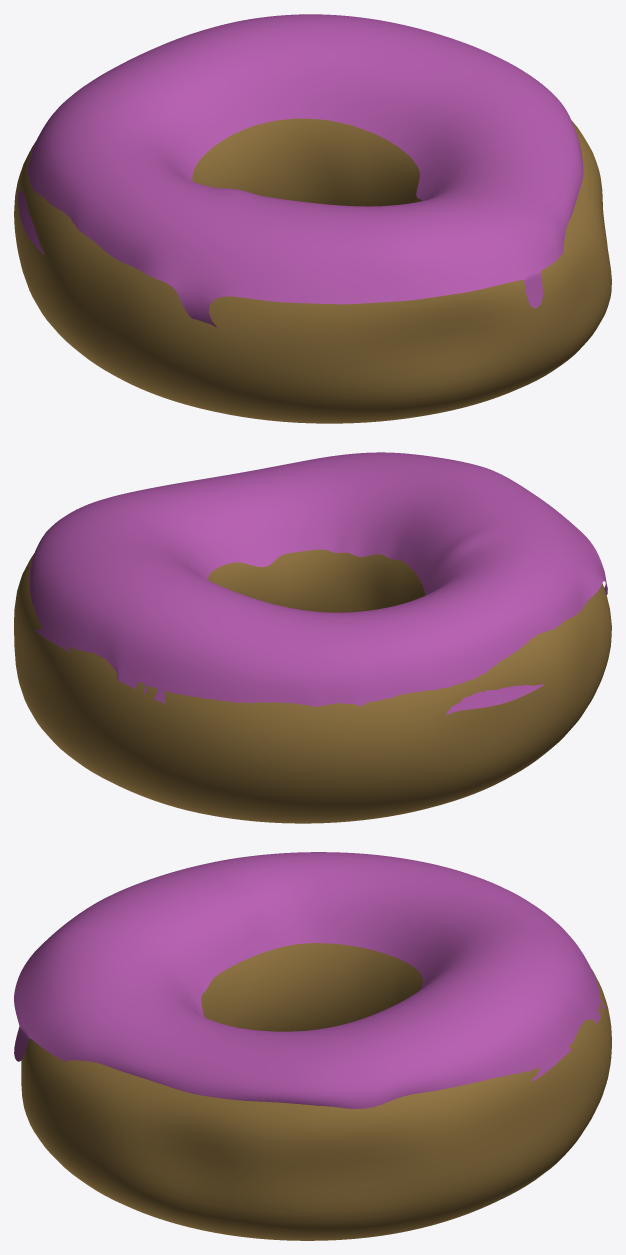
File: donut1king.fbx
3 views of the same model, one above another, from view 1: azimuth 30°, elevation 25°; view 2: azimuth 150°, elevation 25°; view 3: azimuth 270°, elevation 25° (orthographic). The views are drawn at different scales.
Visible parts, largest first — view 1: donut; view 2: donut; view 3: donut.
Boxes of the visible parts, left/top/right/bottom form: donut: left=14, top=14, right=611, bottom=423; donut: left=14, top=452, right=611, bottom=823; donut: left=14, top=852, right=611, bottom=1240.
Bounding box in the file's own units: 14.22 × 5.74 × 14.62.
